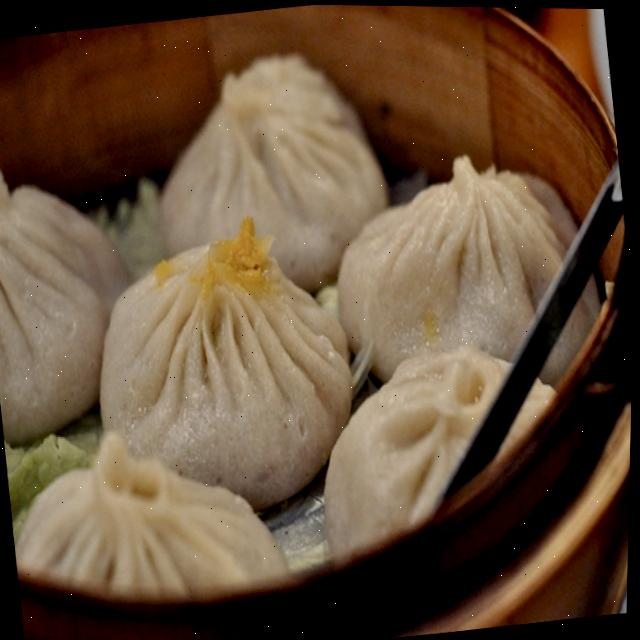带馅早点: (0, 0, 640, 636)
